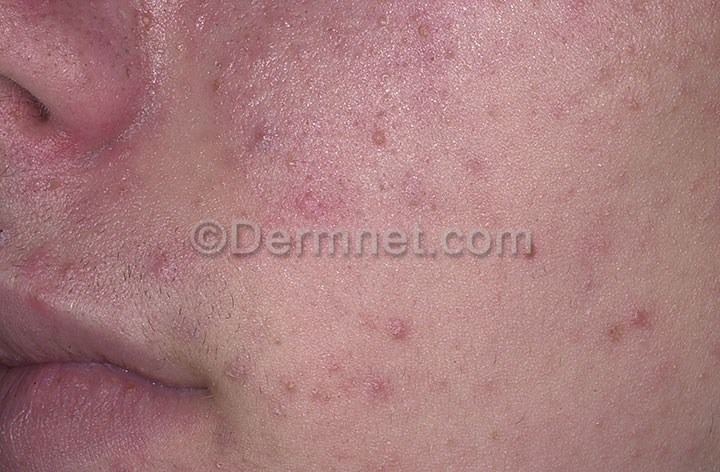Acne: (5, 9, 541, 306)
